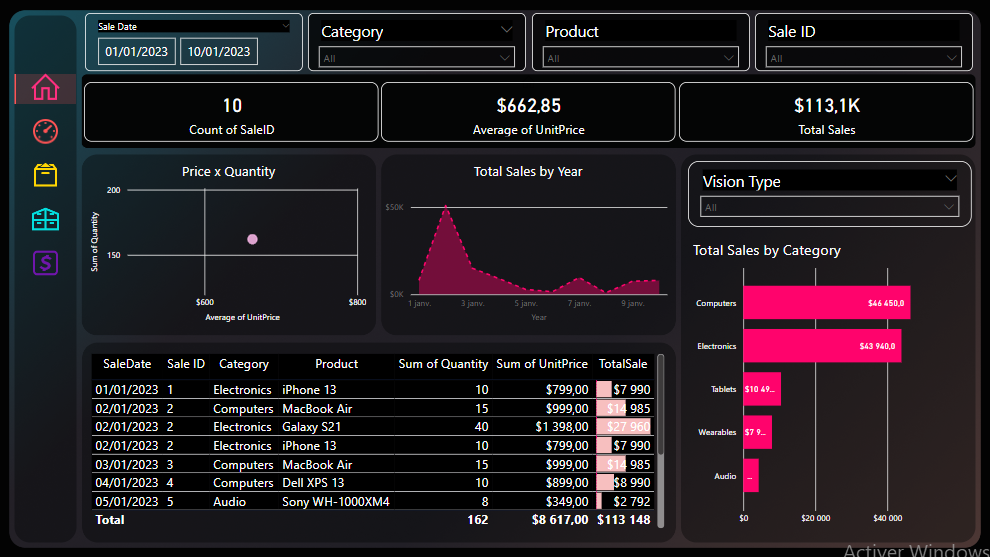

The dashboard page shown, as its layout file describes it:
{"tool":"powerbi","page":{"name":"Sales Dashboard","canvas":[1280,720],"ordinal":0},"visuals":[{"type":"slicer","fields":{"Values":["DataSet.SaleDate"]},"box":[110.6,17,280.6,75.1],"z":0},{"type":"slicer","fields":{"Values":["DataSet.Category"]},"box":[398.3,17,280.6,75.1],"z":1000},{"type":"slicer","fields":{"Values":["DataSet.Product"]},"box":[687.4,17,280.6,75.1],"z":2000},{"type":"slicer","fields":{"Values":["DataSet.SaleID"]},"box":[975.1,17,280.6,75.1],"z":3000},{"type":"clusteredBarChart","title":"Total Sales by Category","fields":{"Category":["DataSet.Product"],"Y":["DataMeasures.TotalSale"]},"box":[890.1,309,365.7,378.4],"z":4000},{"type":"slicer","fields":{"Values":["Z_CategoryProduct.Z_CategoryProduct"]},"box":[887.7,207.7,365.2,85.2],"z":5000},{"type":"card","fields":{"Values":["Count(DataSet.SaleID)"]},"box":[109.1,106.3,379.8,76.5],"z":6000},{"type":"card","fields":{"Values":["Avg(DataSet.UnitPrice)"]},"box":[493.2,106.3,379.8,76.5],"z":7000},{"type":"card","fields":{"Values":["DataMeasures.TotalSale"]},"box":[877.3,106.3,379.8,76.5],"z":8000},{"type":"scatterChart","title":"Price x Quantity","fields":{"X":["Avg(DataSet.UnitPrice)"],"Y":["Sum(DataSet.Quantity)"]},"box":[113.4,208.3,365.7,212.6],"z":9000},{"type":"tableEx","fields":{"Values":["DataSet.SaleDate","DataSet.SaleID","DataSet.Category","DataSet.Product","Sum(DataSet.Quantity)","Sum(DataSet.UnitPrice)","DataMeasures.TotalSale"]},"box":[113.4,452.1,749.8,235.3],"z":10000},{"type":"areaChart","title":"Total Sales by Year","fields":{"Category":["DataSet.SaleDate.Variation.Date Hierarchy.Year","DataSet.SaleDate.Variation.Date Hierarchy.Quarter","DataSet.SaleDate.Variation.Date Hierarchy.Month","DataSet.SaleDate.Variation.Date Hierarchy.Day"],"Y":["DataMeasures.TotalSale"]},"box":[493,208,380,213],"z":11000}]}

Visuals, with their boxes on the page's 1280x720 design canvas (x1, y1, x2, y2). These are canvas units, not pixel positions in the 990x557 screenshot, which may show the page scaled, cropped or inside an application window:
slicer - DataSet.SaleDate: crop(111, 17, 391, 92)
slicer - DataSet.Category: crop(398, 17, 679, 92)
slicer - DataSet.Product: crop(687, 17, 968, 92)
slicer - DataSet.SaleID: crop(975, 17, 1256, 92)
"Total Sales by Category" clusteredBarChart: crop(890, 309, 1256, 687)
slicer - Z_CategoryProduct.Z_CategoryProduct: crop(888, 208, 1253, 293)
card - Count(DataSet.SaleID): crop(109, 106, 489, 183)
card - Avg(DataSet.UnitPrice): crop(493, 106, 873, 183)
card - DataMeasures.TotalSale: crop(877, 106, 1257, 183)
"Price x Quantity" scatterChart: crop(113, 208, 479, 421)
tableEx - DataSet.SaleDate x DataSet.SaleID: crop(113, 452, 863, 687)
"Total Sales by Year" areaChart: crop(493, 208, 873, 421)
